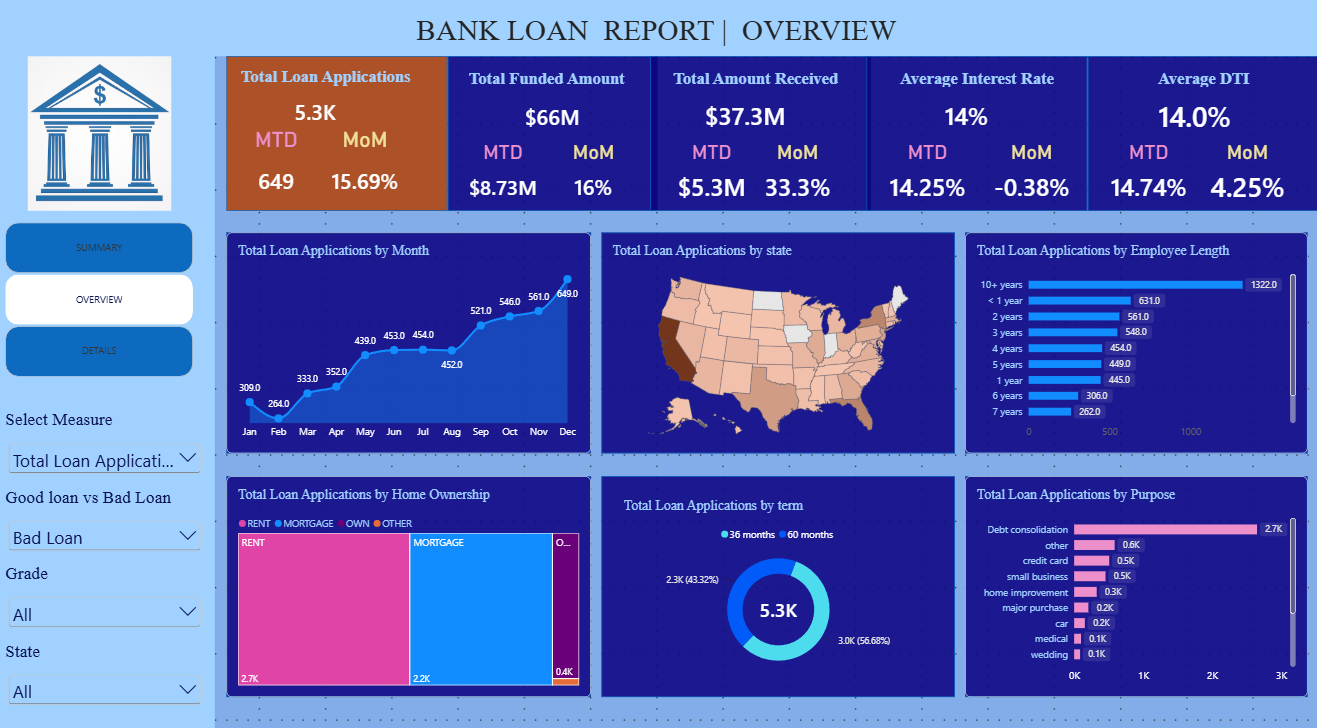

The dashboard page shown, as its layout file describes it:
{"tool":"powerbi","page":{"name":"OVERVIEW","canvas":[1920,1080],"ordinal":1},"visuals":[{"type":"shape","box":[0,88,320,992],"z":0},{"type":"shape","box":[336,96,320,224],"z":0,"group":"g1"},{"type":"shape","box":[656,96,304,224],"z":0,"group":"g6"},{"type":"shape","box":[951.6,96,320,224],"z":0,"group":"g3"},{"type":"shape","box":[1264,96,320,224],"z":0,"group":"g4"},{"type":"shape","box":[1584,96,336,224],"z":0,"group":"g5"},{"type":"shape","box":[880,704,512,320],"z":0,"group":"g7"},{"type":"shape","box":[0,0,1920,96],"z":1000},{"type":"textbox","box":[624,113.2,352,34.5],"z":1000,"group":"g6"},{"type":"cardVisual","fields":{"Data":["bank_loan_data.Total Loan Applications"]},"box":[350.5,127.8,228.6,95.4],"z":1000,"group":"g1"},{"type":"cardVisual","fields":{"Data":["bank_loan_data.Total Aount Received"]},"box":[974.5,130.5,228.6,103.4],"z":1000,"group":"g3"},{"type":"cardVisual","fields":{"Data":["bank_loan_data.Average Interest Rate"]},"box":[1294.5,130.5,228.6,103.4],"z":1000,"group":"g4"},{"type":"cardVisual","fields":{"Data":["bank_loan_data.Average DTI"]},"box":[1616,130.5,240,103.4],"z":1000,"group":"g5"},{"type":"donutChart","fields":{"Category":["bank_loan_data.term"],"Y":["bank_loan_data.Total Loan Applications"]},"box":[896,720,480,288],"z":1000,"group":"g7"},{"type":"textbox","box":[0,32,1920,64],"z":2000},{"type":"textbox","box":[320,111.9,320,31.8],"z":2000,"group":"g1"},{"type":"textbox","box":[944,113.2,320,34.5],"z":2000,"group":"g3"},{"type":"textbox","box":[1264,113.2,320,34.5],"z":2000,"group":"g4"},{"type":"textbox","box":[1584,113.2,336,34.5],"z":2000,"group":"g5"},{"type":"cardVisual","title":"MoM","fields":{"Data":["bank_loan_data.MoM Total Funded Amount"]},"box":[791.6,216.6,150.9,86.2],"z":2000,"group":"g6"},{"type":"group","id":"g1","title":"Group 1","box":[320,96,336,224],"z":3000},{"type":"cardVisual","fields":{"Data":["bank_loan_data.Total Funded Amount"]},"box":[720,147.7,176,68.9],"z":3000,"group":"g6"},{"type":"cardVisual","title":"MTD","fields":{"Data":["bank_loan_data.MTD Loan Applications"]},"box":[336,199.4,144,103.4],"z":3000,"group":"g1"},{"type":"cardVisual","title":"MTD","fields":{"Data":["bank_loan_data.MTD Total Amount Received"]},"box":[960,216.6,160,86.2],"z":3000,"group":"g3"},{"type":"cardVisual","title":"MTD","fields":{"Data":["bank_loan_data.MTD Average Interest Rate"]},"box":[1280,216.6,144,86.2],"z":3000,"group":"g4"},{"type":"cardVisual","title":"MTD","fields":{"Data":["bank_loan_data.MTD Average DTI"]},"box":[1600,216.6,144,86.2],"z":3000,"group":"g5"},{"type":"group","id":"g2","title":"Group 1","box":[624,96,352,224],"z":4000},{"type":"cardVisual","title":"MoM","fields":{"Data":["bank_loan_data.MoM Loan Applications"]},"box":[464,199.4,144,103.4],"z":4000,"group":"g1"},{"type":"cardVisual","title":"MTD","fields":{"Data":["bank_loan_data.MTD Funded Amount"]},"box":[656,216.6,160,86.2],"z":4000,"group":"g6"},{"type":"cardVisual","title":"MoM","fields":{"Data":["bank_loan_data.Mom Loan Received"]},"box":[1096.4,216.6,137.1,86.2],"z":4000,"group":"g3"},{"type":"cardVisual","title":"MoM","fields":{"Data":["bank_loan_data.MoM Avg Int Rate"]},"box":[1424,216.6,160,86.2],"z":4000,"group":"g4"},{"type":"cardVisual","title":"MoM","fields":{"Data":["bank_loan_data.MoM Average DTI"]},"box":[1744,216.6,144,86.2],"z":4000,"group":"g5"},{"type":"shape","box":[336,352,528,320],"z":5000},{"type":"group","id":"g3","title":"Group 1","box":[944,96,320,224],"z":6000},{"type":"group","id":"g4","title":"Group 1","box":[1264,96,320,224],"z":7000},{"type":"group","id":"g5","title":"Group 1","box":[1584,96,336,224],"z":8000},{"type":"slicer","title":"Good loan vs Bad Loan","fields":{"Values":["bank_loan_data.Good vs Bad Loan"]},"box":[16,720,288,96],"z":9000},{"type":"slicer","title":"Grade","fields":{"Values":["bank_loan_data.grade"]},"box":[16,832,288,96],"z":10000},{"type":"slicer","title":"State","fields":{"Values":["bank_loan_data.address_state"]},"box":[16,944,288,112],"z":11000},{"type":"group","id":"g6","title":"Group 2","box":[624,96,352,224],"z":11001,"group":"g2"},{"type":"areaChart","fields":{"Category":["DateTable.Month"],"Y":["bank_loan_data.Total Loan Applications"]},"box":[336,352,528,320],"z":12000},{"type":"slicer","title":"Select Measure","fields":{"Values":["Select Measure.Select Measure"]},"box":[16,608,288,96],"z":13000},{"type":"shape","box":[880,352,512,320],"z":14000},{"type":"shape","box":[336,704,528,320],"z":15000},{"type":"shapeMap","fields":{"Category":["bank_loan_data.address_state"],"Value":["bank_loan_data.Total Loan Applications"]},"box":[880,352,512,320],"z":16000},{"type":"shape","box":[1408,704,496,320],"z":17000},{"type":"shape","box":[1408,352,496,320],"z":18000},{"type":"group","id":"g7","title":"Group 3","box":[880,704,512,320],"z":19000},{"type":"barChart","fields":{"Category":["bank_loan_data.emp_length"],"Y":["bank_loan_data.Total Loan Applications"]},"box":[1408,352,496,320],"z":20000},{"type":"barChart","fields":{"Category":["bank_loan_data.purpose"],"Y":["bank_loan_data.Total Loan Applications"]},"box":[1408,704,496,320],"z":21000},{"type":"treemap","fields":{"Group":["bank_loan_data.home_ownership"],"Values":["bank_loan_data.Total Loan Applications"]},"box":[336,704,528,320],"z":22000},{"type":"image","box":[48,96,208,224],"z":23000},{"type":"pageNavigator","box":[16,336,272,224],"z":24000}]}

Visuals, with their boxes in screenshot pixels (x1, y1, x2, y2), scaled from the page's 1920x1080 canvas onto the 1317x728 screenshot:
shape: locate(0, 59, 220, 727)
shape: locate(230, 65, 450, 216)
shape: locate(450, 65, 658, 216)
shape: locate(653, 65, 872, 216)
shape: locate(867, 65, 1087, 216)
shape: locate(1087, 65, 1316, 216)
shape: locate(604, 475, 955, 690)
shape: locate(0, 0, 1316, 65)
textbox: locate(428, 76, 669, 100)
cardVisual - bank_loan_data.Total Loan Applications: locate(240, 86, 397, 150)
cardVisual - bank_loan_data.Total Aount Received: locate(668, 88, 825, 158)
cardVisual - bank_loan_data.Average Interest Rate: locate(888, 88, 1045, 158)
cardVisual - bank_loan_data.Average DTI: locate(1108, 88, 1273, 158)
donutChart - bank_loan_data.term x bank_loan_data.Total Loan Applications: locate(615, 485, 944, 679)
textbox: locate(0, 22, 1316, 65)
textbox: locate(220, 75, 439, 97)
textbox: locate(648, 76, 867, 100)
textbox: locate(867, 76, 1087, 100)
textbox: locate(1087, 76, 1316, 100)
"MoM" cardVisual: locate(543, 146, 646, 204)
"Group 1" group: locate(220, 65, 450, 216)
cardVisual - bank_loan_data.Total Funded Amount: locate(494, 100, 615, 146)
"MTD" cardVisual: locate(230, 134, 329, 204)
"MTD" cardVisual: locate(658, 146, 768, 204)
"MTD" cardVisual: locate(878, 146, 977, 204)
"MTD" cardVisual: locate(1098, 146, 1196, 204)
"Group 1" group: locate(428, 65, 669, 216)
"MoM" cardVisual: locate(318, 134, 417, 204)
"MTD" cardVisual: locate(450, 146, 560, 204)
"MoM" cardVisual: locate(752, 146, 846, 204)
"MoM" cardVisual: locate(977, 146, 1087, 204)
"MoM" cardVisual: locate(1196, 146, 1295, 204)
shape: locate(230, 237, 593, 453)
"Group 1" group: locate(648, 65, 867, 216)
"Group 1" group: locate(867, 65, 1087, 216)
"Group 1" group: locate(1087, 65, 1316, 216)
"Good loan vs Bad Loan" slicer: locate(11, 485, 209, 550)
"Grade" slicer: locate(11, 561, 209, 626)
"State" slicer: locate(11, 636, 209, 712)
"Group 2" group: locate(428, 65, 669, 216)
areaChart - DateTable.Month x bank_loan_data.Total Loan Applications: locate(230, 237, 593, 453)
"Select Measure" slicer: locate(11, 410, 209, 475)
shape: locate(604, 237, 955, 453)
shape: locate(230, 475, 593, 690)
shapeMap - bank_loan_data.address_state x bank_loan_data.Total Loan Applications: locate(604, 237, 955, 453)
shape: locate(966, 475, 1306, 690)
shape: locate(966, 237, 1306, 453)
"Group 3" group: locate(604, 475, 955, 690)
barChart - bank_loan_data.emp_length x bank_loan_data.Total Loan Applications: locate(966, 237, 1306, 453)
barChart - bank_loan_data.purpose x bank_loan_data.Total Loan Applications: locate(966, 475, 1306, 690)
treemap - bank_loan_data.home_ownership x bank_loan_data.Total Loan Applications: locate(230, 475, 593, 690)
image: locate(33, 65, 176, 216)
pageNavigator: locate(11, 226, 198, 377)
